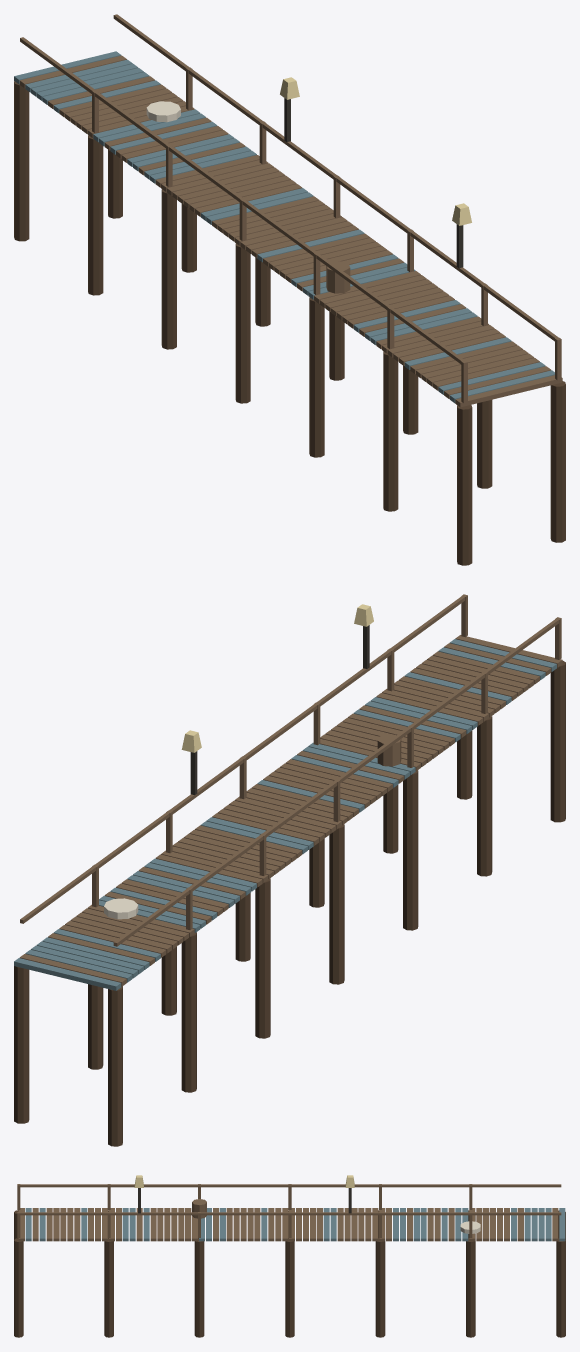
Rendered from ahsap-iskele-duz.glb.
The picture shows the model from 3 angles, top to bottom: view 1: azimuth 30°, elevation 25°; view 2: azimuth 150°, elevation 25°; view 3: azimuth 270°, elevation 25°; orthographic projection. The views are drawn at different scales.
Visible parts, largest first — view 1: ahsap, ahsap_koyu, deniz_ahsap, fener; view 2: ahsap, ahsap_koyu, deniz_ahsap, fener; view 3: ahsap, ahsap_koyu, deniz_ahsap, fener.
Part boxes in pixels (bbox=[...]): ahsap: bbox=[19, 14, 562, 407]; ahsap_koyu: bbox=[14, 81, 565, 565]; deniz_ahsap: bbox=[14, 51, 554, 403]; fener: bbox=[280, 77, 471, 225]; ahsap: bbox=[19, 594, 562, 986]; ahsap_koyu: bbox=[14, 661, 565, 1146]; deniz_ahsap: bbox=[14, 639, 556, 990]; fener: bbox=[181, 604, 373, 752]; ahsap: bbox=[17, 1184, 561, 1241]; ahsap_koyu: bbox=[14, 1210, 565, 1337]; deniz_ahsap: bbox=[25, 1208, 565, 1241]; fener: bbox=[134, 1175, 354, 1187].
Bounding box in the file's own units: 2.56 × 5.85 × 18.32.
